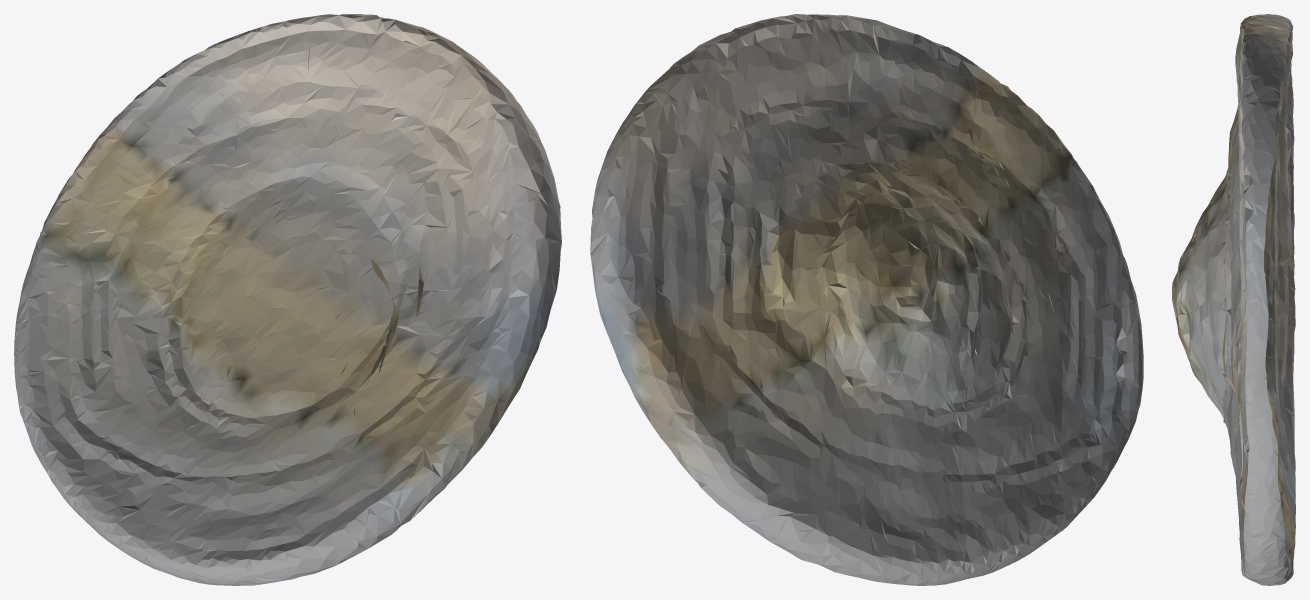
The model's file is moeda.glb.
3 renders of one model, left to right at view 1: azimuth 30°, elevation 25°; view 2: azimuth 150°, elevation 25°; view 3: azimuth 270°, elevation 25°, orthographic. The views are drawn at different scales.
Visible parts, largest first — view 1: geometry_0; view 2: geometry_0; view 3: geometry_0.
Boxes of the visible parts, x1=… form: geometry_0: x1=14, y1=14, x2=561, y2=585; geometry_0: x1=590, y1=14, x2=1143, y2=585; geometry_0: x1=1172, y1=14, x2=1295, y2=585.
Bounding box in the file's own units: 1 × 0.9778 × 0.2121.
